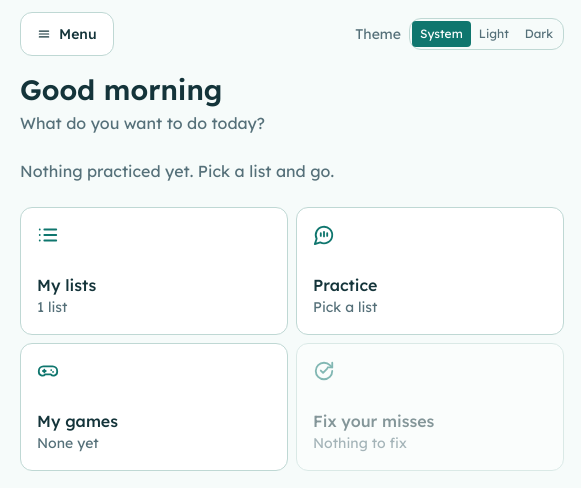
Test case: a test you keep › keeps a saved test whose list has since been deleted, and says so
Click the button "Menu" at (67, 34), box [20, 12, 114, 56]
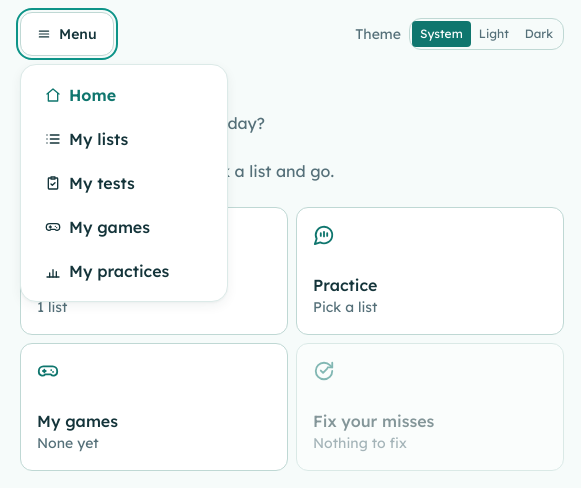
Click the menu item "My tests" at (124, 183), box [29, 161, 219, 205]
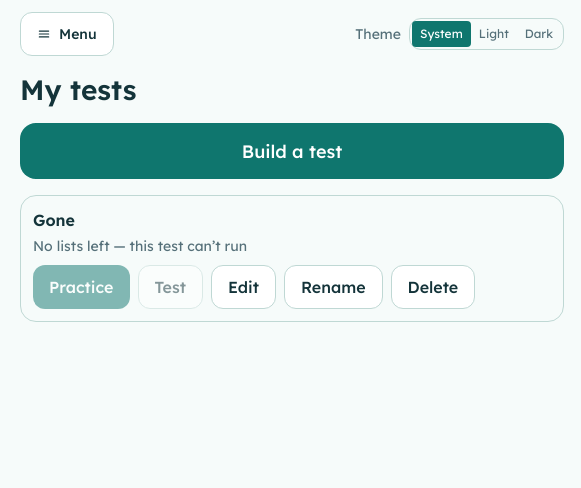
expect the text "No lists left — this test can’t run" is shown: met, box [33, 237, 247, 255]
expect the button "Test" is disabled: met, box [138, 265, 203, 309]
expect the button "Delete" is enabled: met, box [391, 265, 475, 309]
